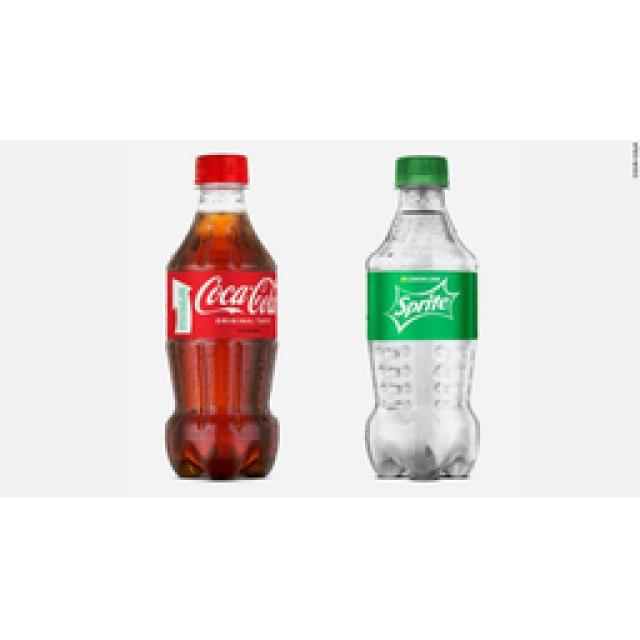plastic_soda_bottles: (161, 188, 281, 486), (368, 188, 483, 478)
